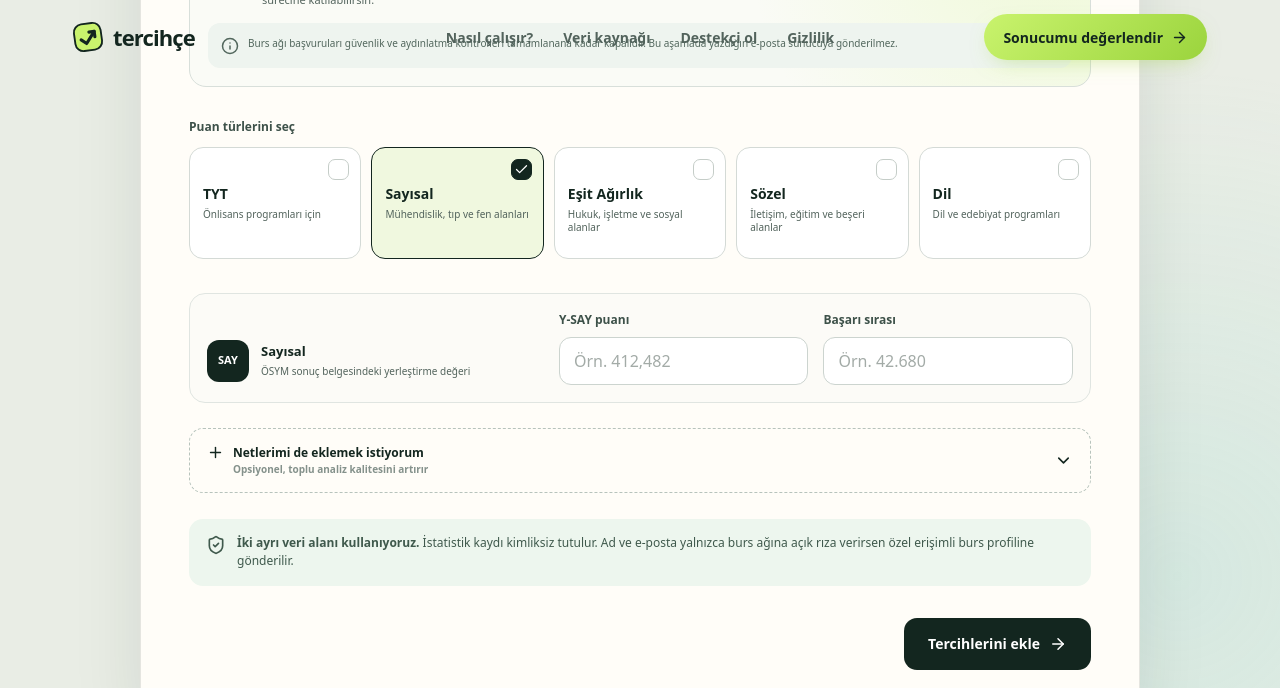
Tercihçe analiz akışı › yerleştirme sonucundan öneri listesine ilerler
(page scrolled)
Type "412,482" into the field named "SAY yerleştirme puanı" at (684, 360), box [559,336,808,384]
(page scrolled)
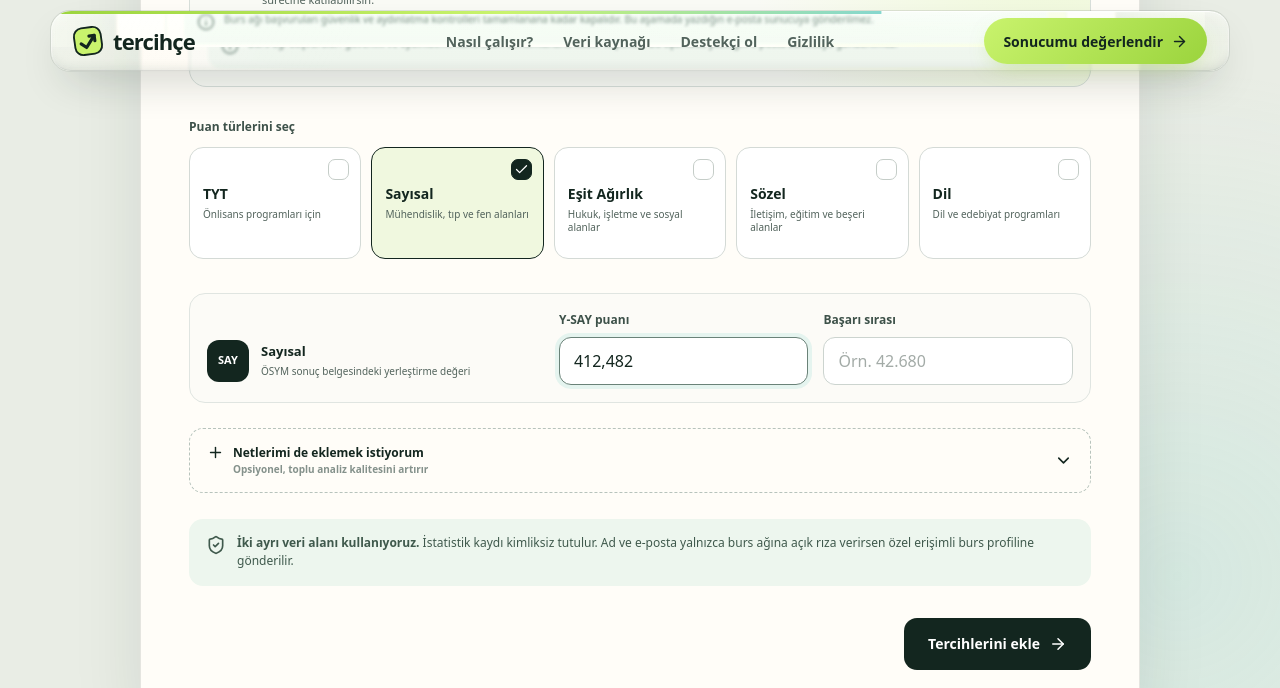
Type "42680" into the field named "SAY yerleştirme başarı sırası" at (948, 360), box [823,336,1073,384]
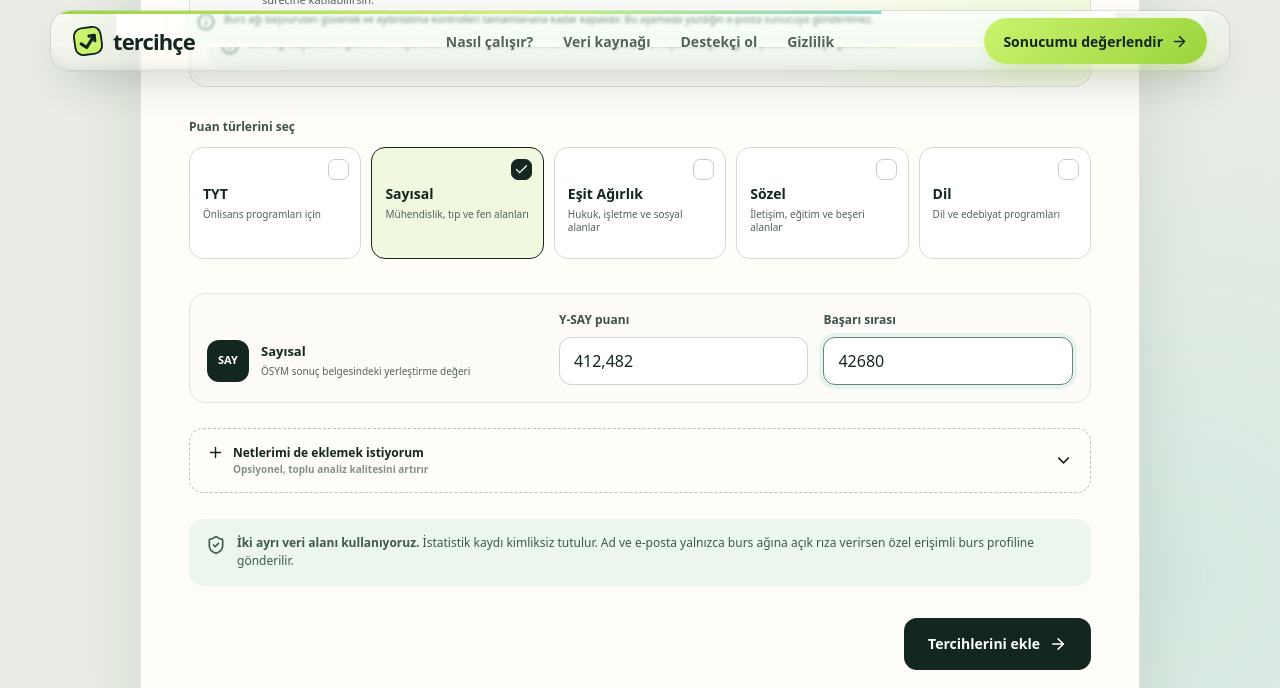
Click the button "Tercihlerini ekle" at (998, 644), box [904,618,1091,670]
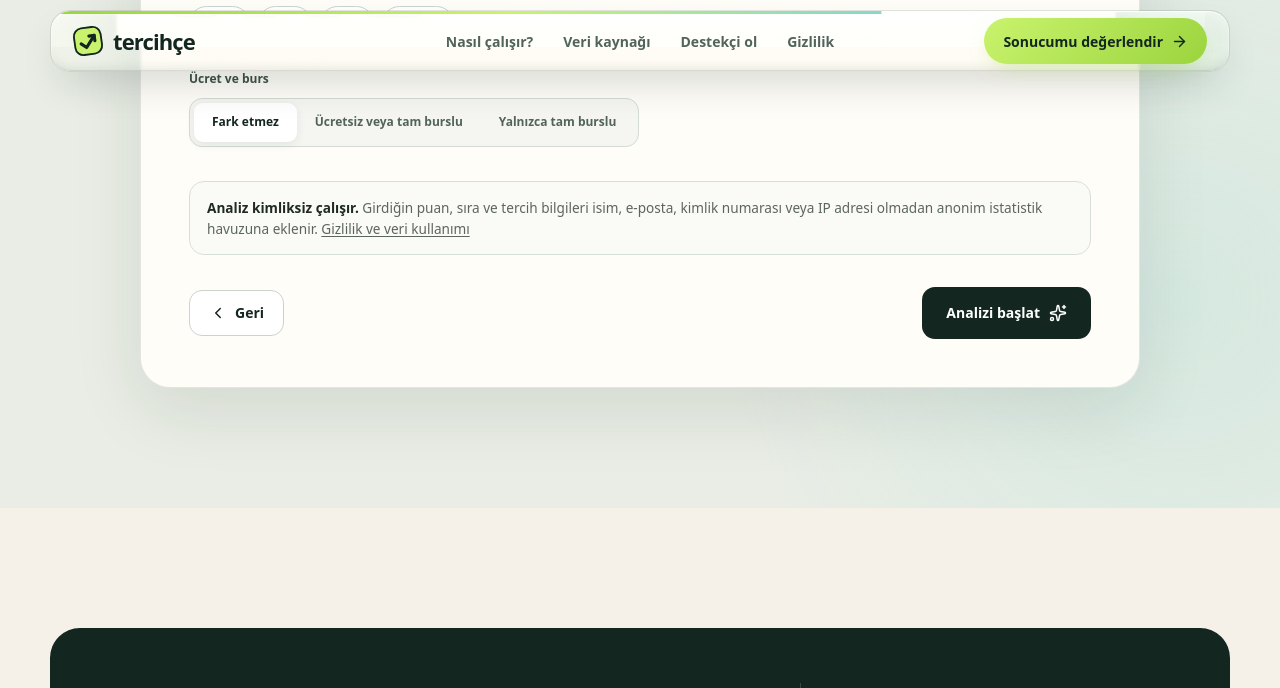
Click the button "Analizi başlat" at (1007, 313), box [922,287,1091,339]
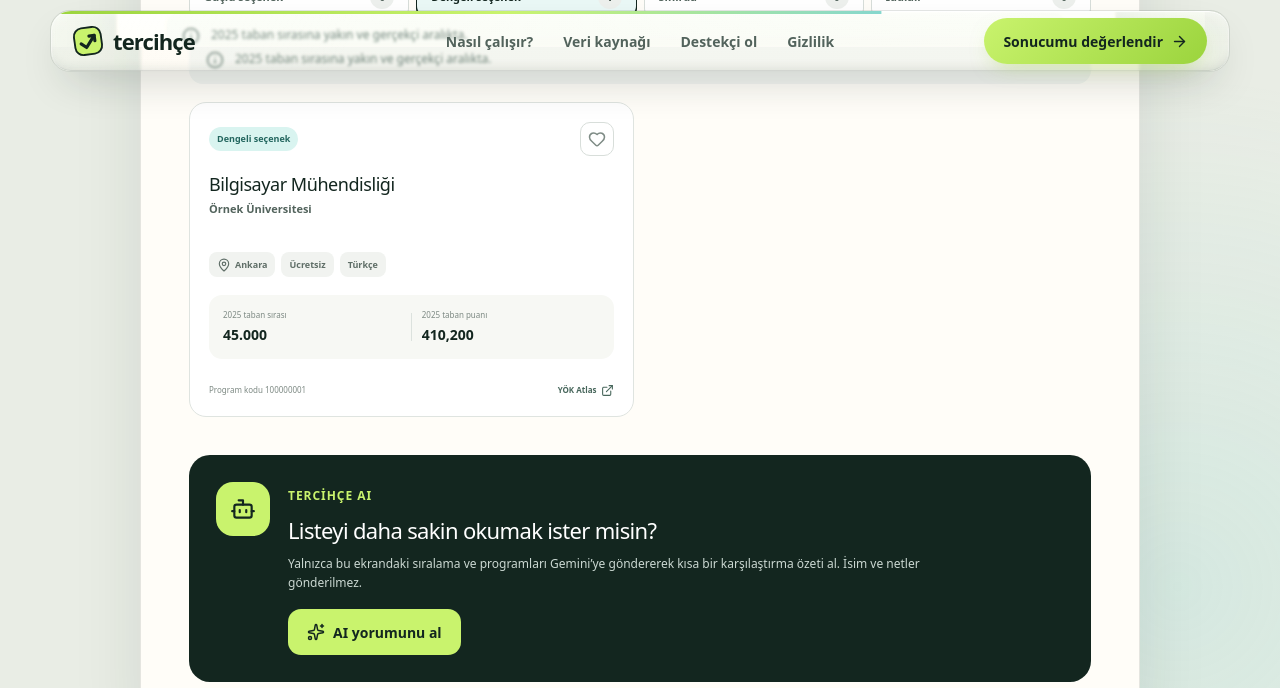
Now the heading "Bilgisayar Mühendisliği" is shown, box [209,172,395,196]
